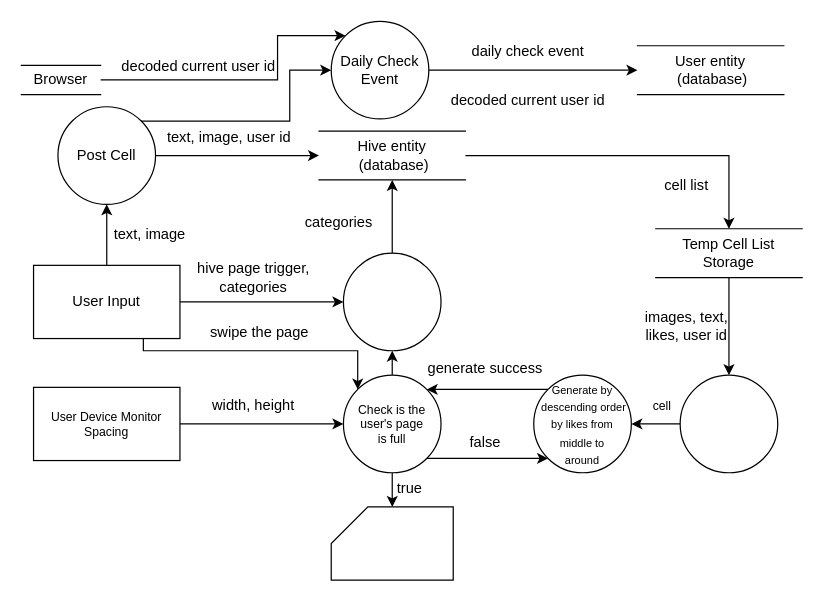
This 824x601 diagram has some shape labels left out. Each missing label, with the centre of its shape:
display on the buzz page: point 391,543
Generate Cell: point 728,423
Get Cell: point 391,301
